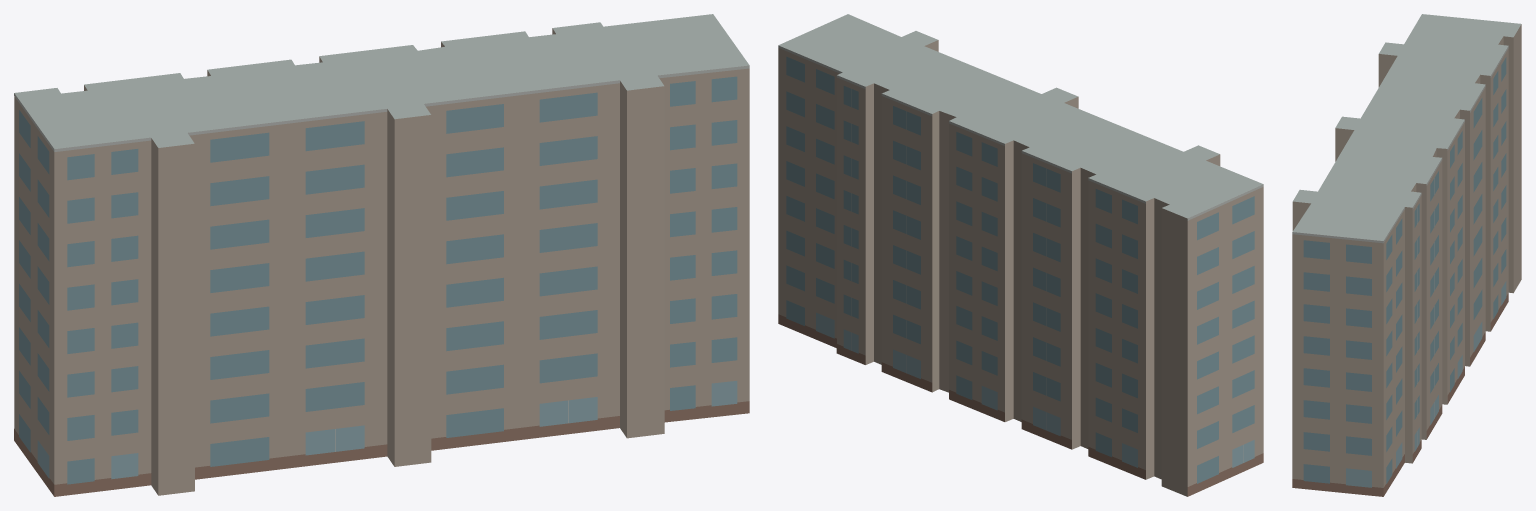
The model's file is survey-upis-32878448.glb.
3 views of the same model, side by side, from view 1: azimuth 30°, elevation 25°; view 2: azimuth 150°, elevation 25°; view 3: azimuth 270°, elevation 25° (orthographic). The views are drawn at different scales.
Visible parts, largest first — view 1: survey-upis-32878448.tmp; view 2: survey-upis-32878448.tmp; view 3: survey-upis-32878448.tmp.
Boxes of the visible parts, x1=… form: survey-upis-32878448.tmp: x1=14, y1=14, x2=749, y2=496; survey-upis-32878448.tmp: x1=778, y1=14, x2=1263, y2=496; survey-upis-32878448.tmp: x1=1292, y1=14, x2=1521, y2=496.
Bounding box in the file's own units: 54.46 × 28.6 × 23.23.
